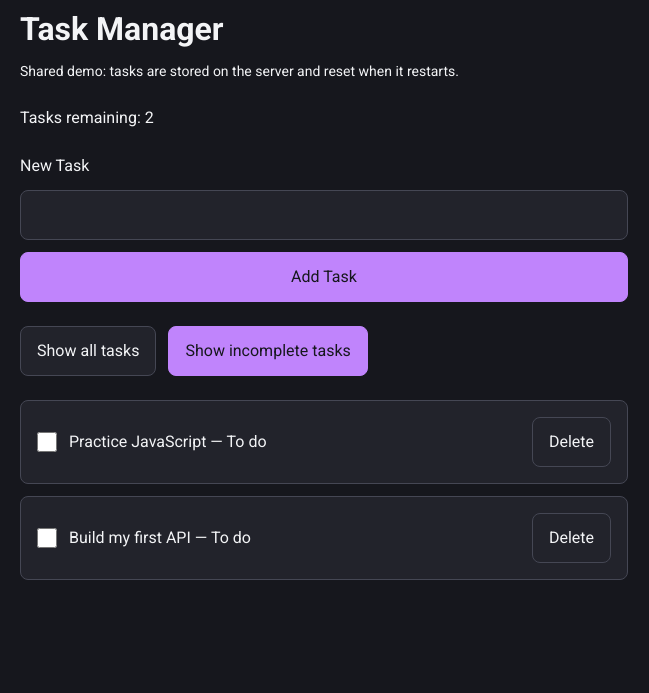
Test: posts a trimmed title, uses the server ID, and clears the input
This screenshot has width=649, height=693.
Type "  Practice React hooks  " into the field at (324, 215), box [20,190,628,240]
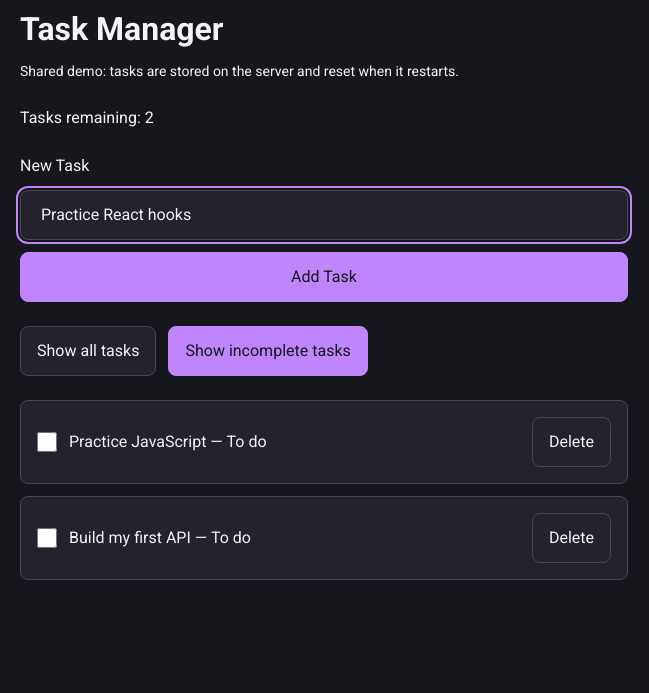
Click the button "Add Task" at (324, 277), box [20,252,628,302]
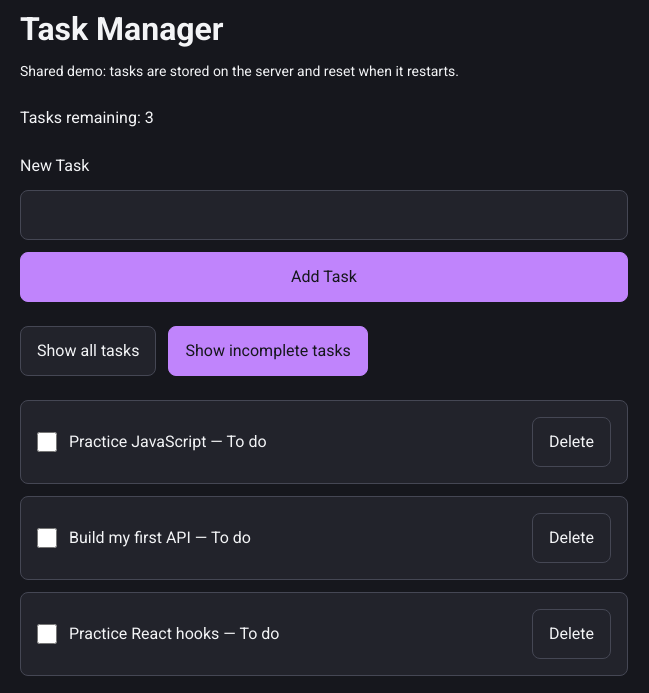
Check: the checkbox named "Practice React hooks" is shown, box [37,624,57,644]
Check: the field is empty, box [20,190,628,240]
Check: the text "Tasks remaining: 3" is shown, box [20,108,154,127]
